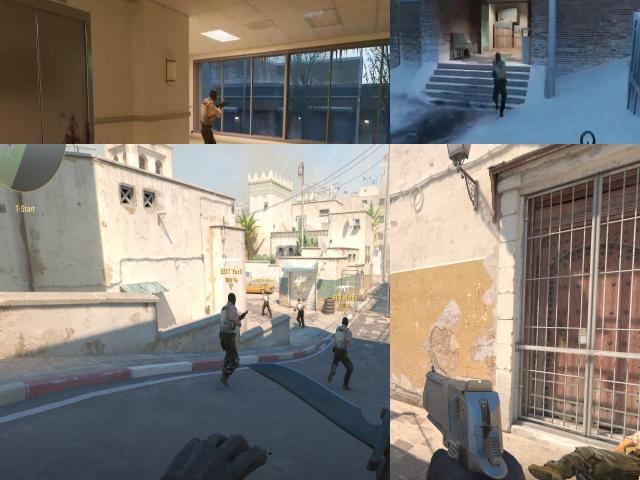Dead: (550, 432, 640, 480)
T: (220, 291, 240, 381), (197, 91, 226, 143), (335, 314, 352, 388), (488, 59, 508, 96), (260, 291, 272, 315), (296, 296, 305, 322)
T-Head: (205, 85, 221, 107), (494, 49, 503, 66), (228, 294, 236, 303), (342, 317, 348, 326), (297, 299, 301, 302), (264, 292, 266, 294)
